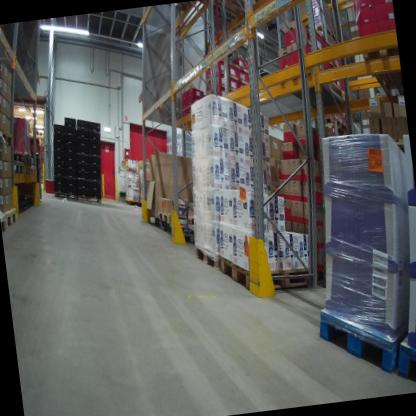pallet: (310, 277, 416, 379), (215, 241, 314, 300), (272, 50, 355, 117), (356, 30, 403, 101), (387, 326, 416, 394), (152, 204, 196, 231), (193, 236, 220, 275), (51, 187, 77, 208), (75, 189, 103, 207), (1, 202, 20, 227), (0, 124, 15, 147), (14, 150, 34, 167), (11, 156, 25, 175), (31, 120, 44, 137), (21, 162, 32, 179), (0, 212, 8, 233), (29, 164, 39, 177)
